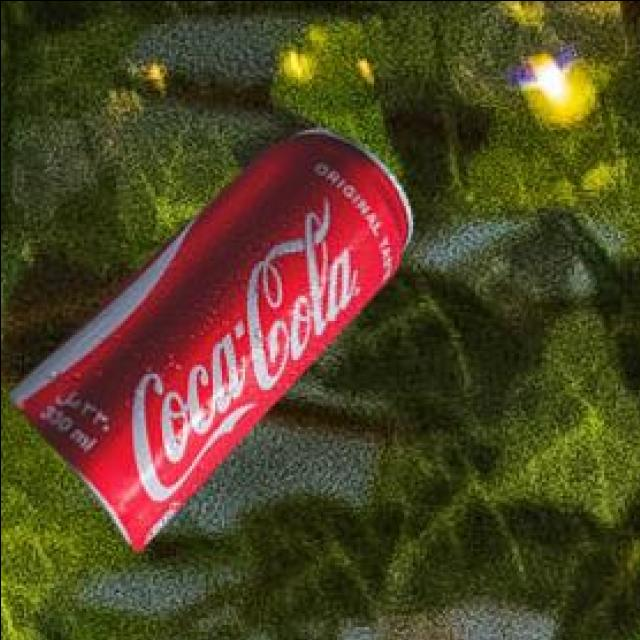logam: (3, 125, 409, 547)
